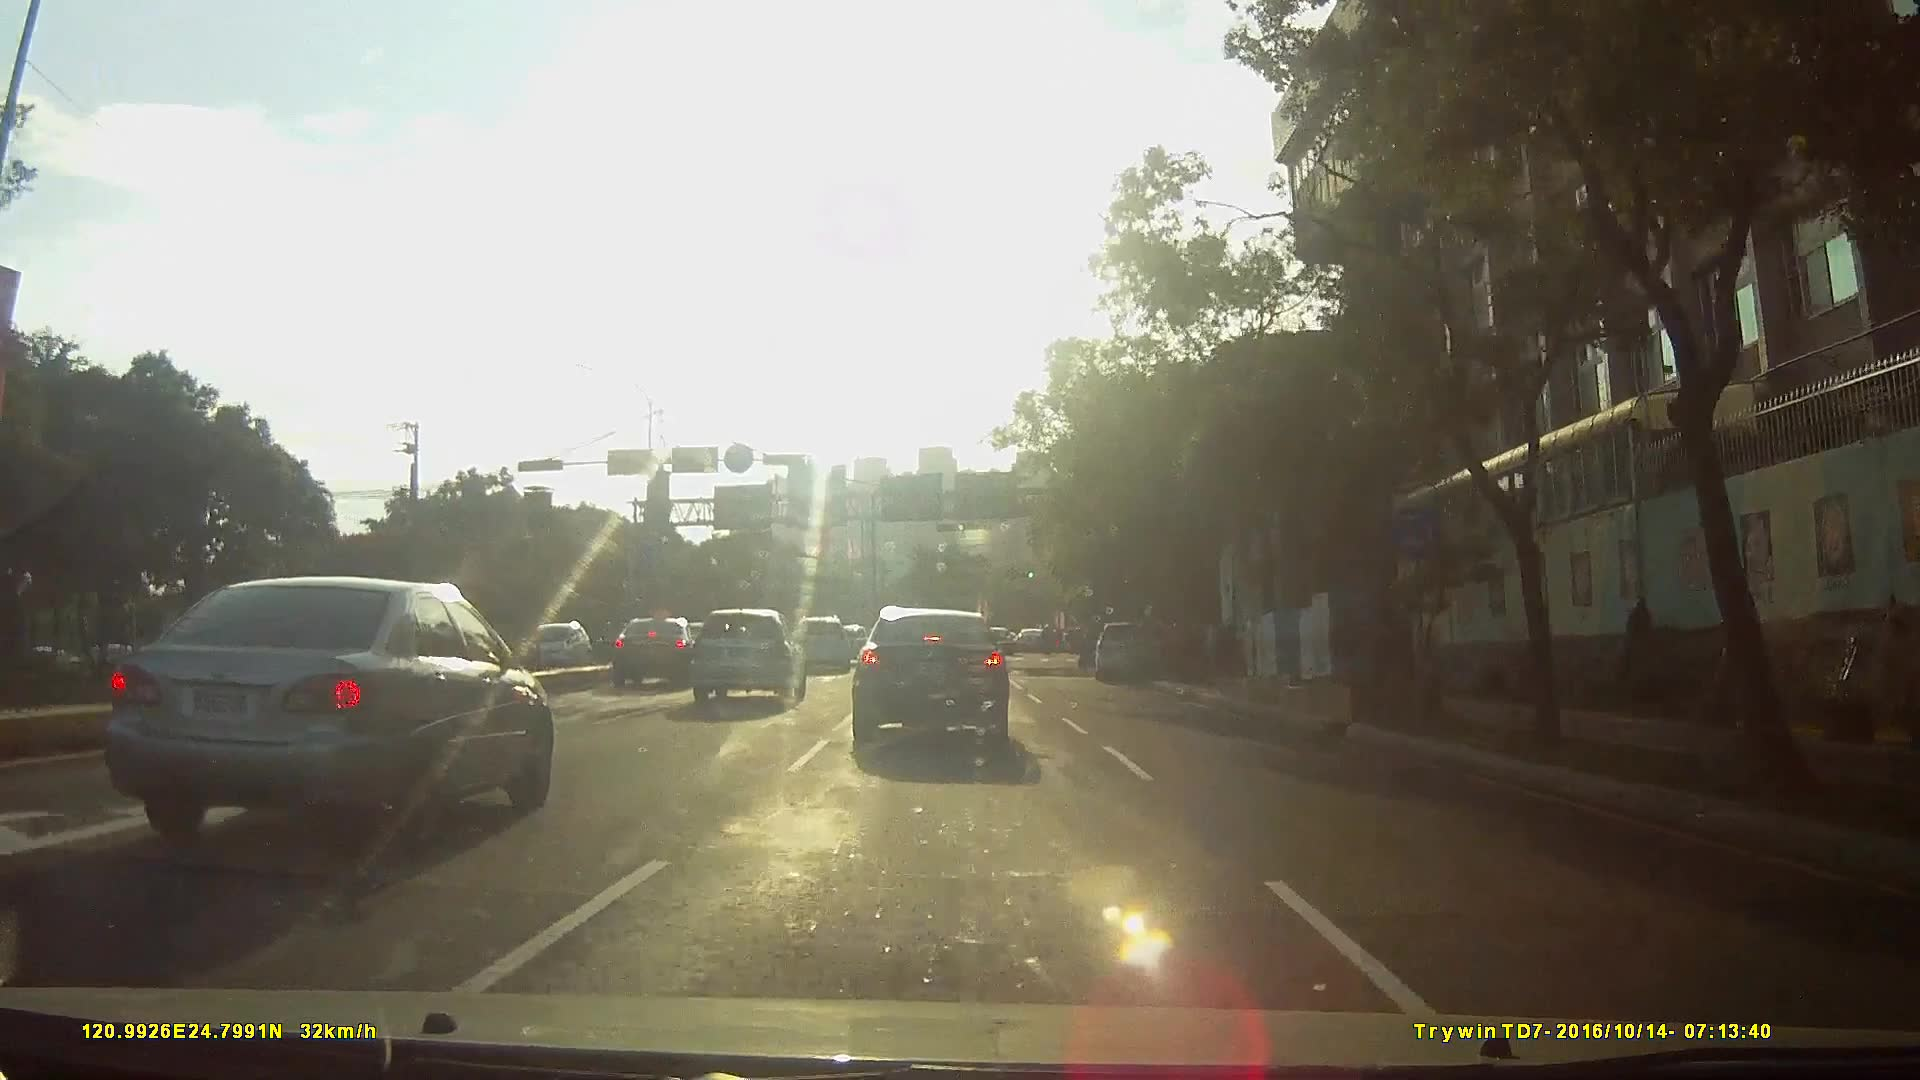vehicle: (88, 560, 562, 862), (845, 605, 1026, 765), (680, 607, 807, 703), (593, 615, 694, 690), (509, 616, 593, 675), (1096, 618, 1167, 683), (785, 612, 849, 673), (1015, 624, 1058, 651)
